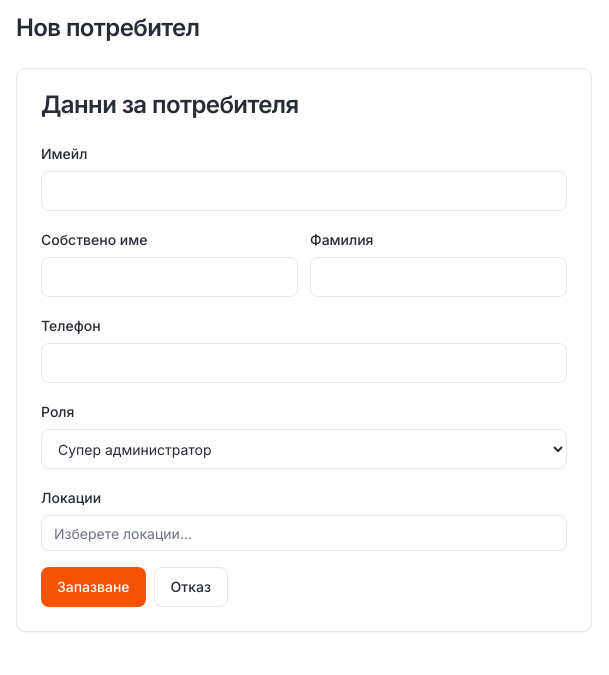
Scenario: UserForm — the location requirement › blocks an EMPLOYEE with no location and says why
Type "new@example.com" into the field labelled "Имейл".
click(304, 191); type("new@example.com")  # box [41,171,567,211]
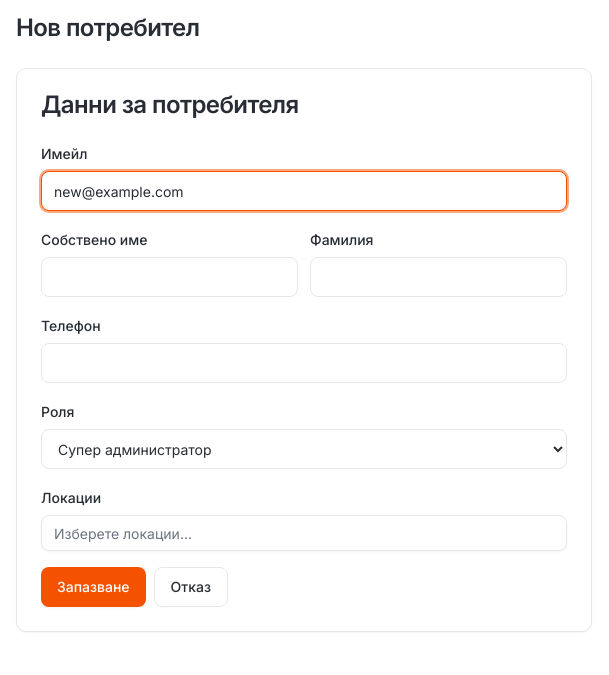
Select "Служител" in the dropdown labelled "Роля" at (304, 449), box [41,429,567,469]
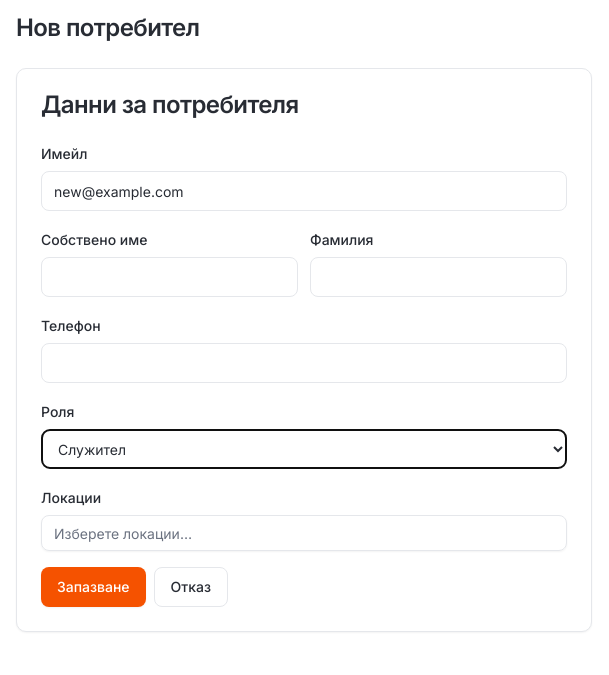
Click the button "Запазване".
click(93, 587)  # box [41,567,146,607]
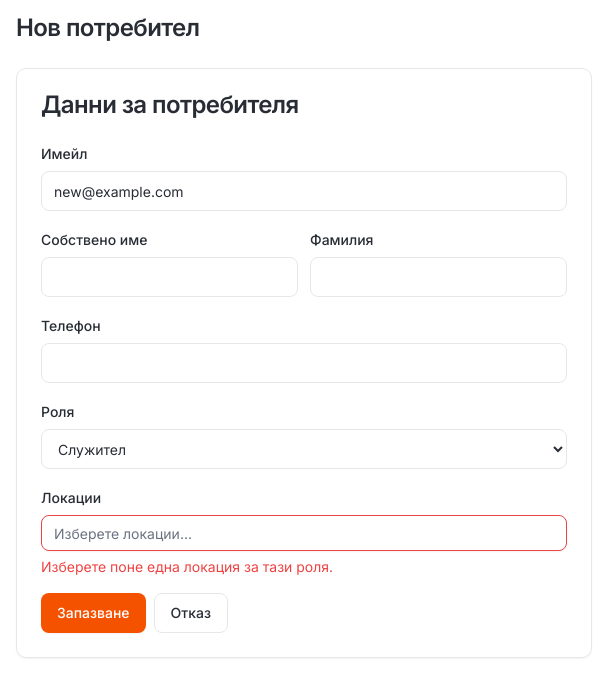
Now the text "Изберете поне една локация за тази роля." is shown, box [41,558,333,575]
